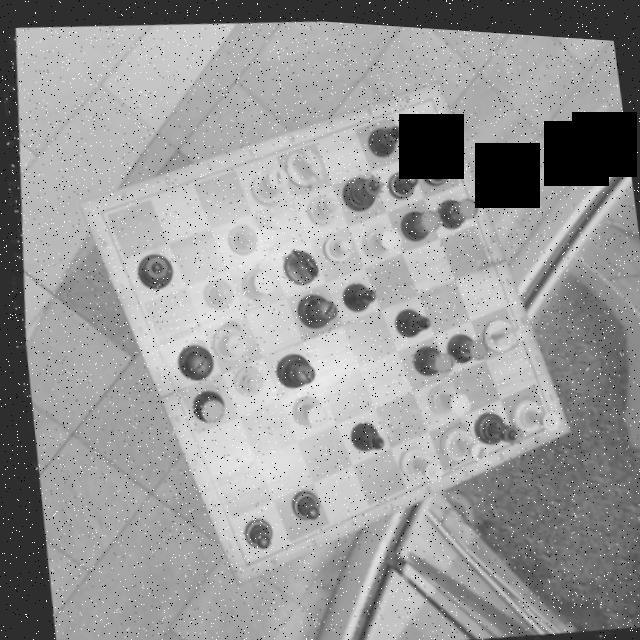chess-table-corners: (408, 83, 447, 120), (224, 544, 260, 578), (522, 402, 560, 434), (85, 195, 113, 226)
